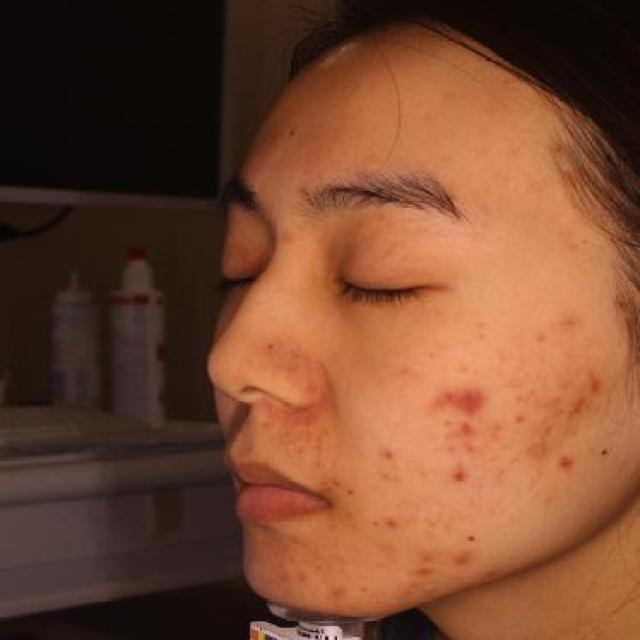Acne: (423, 383, 493, 425), (548, 446, 587, 479), (376, 508, 408, 539), (450, 540, 479, 574), (582, 365, 612, 397), (567, 390, 592, 428), (447, 418, 488, 440), (443, 462, 476, 488), (374, 442, 405, 467)
Blackheads: (339, 482, 364, 502), (462, 526, 486, 546)
Dark-Spots: (593, 442, 615, 463)
